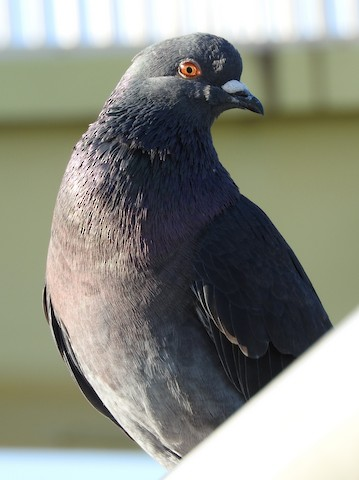pigeon: (30, 26, 356, 475)
